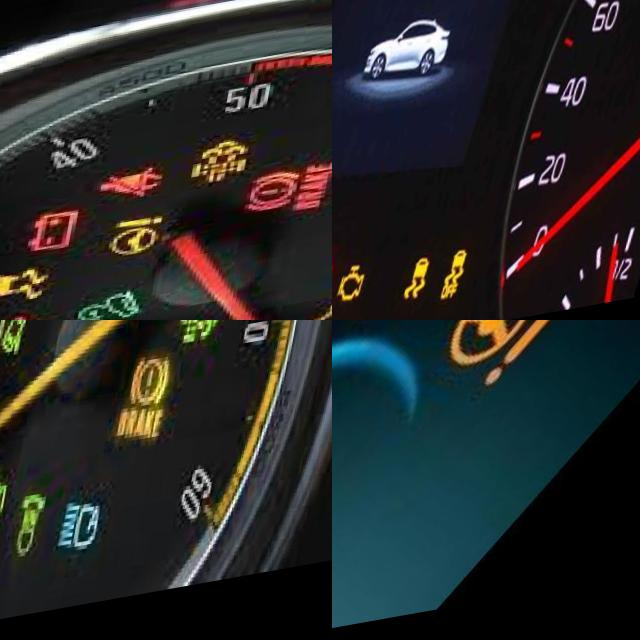Electronic Power Steering: (119, 224, 177, 269)
Seat Belt: (102, 173, 178, 217), (332, 269, 354, 320)
